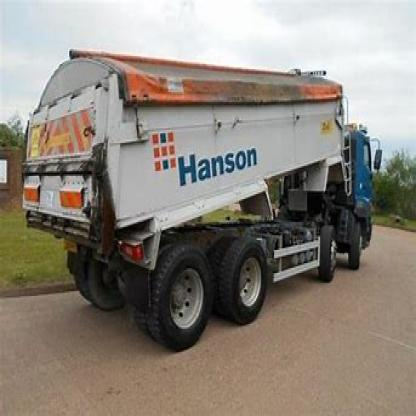dump_truck: (30, 29, 393, 354)
